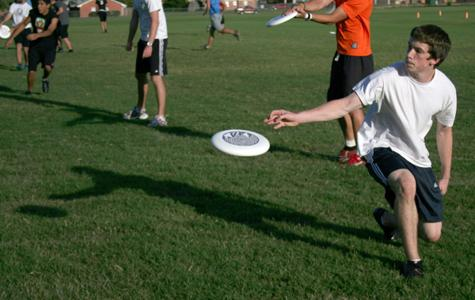person: (264, 26, 458, 279)
